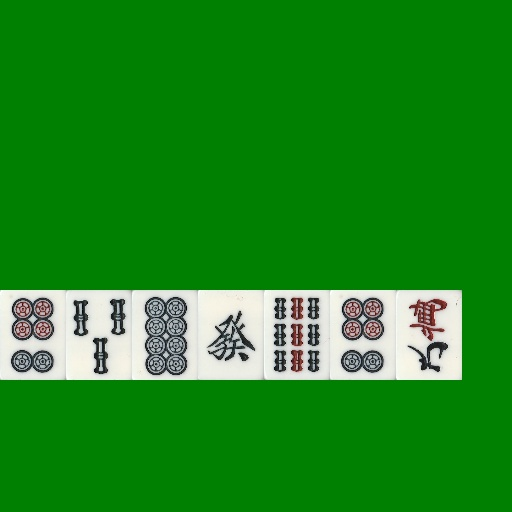3s: (66, 290, 132, 380)
6p: (0, 290, 66, 380), (330, 290, 396, 380)
8p: (132, 290, 198, 380)
9m: (396, 290, 462, 380)
9s: (264, 290, 330, 380)
hatsu: (198, 290, 264, 380)
